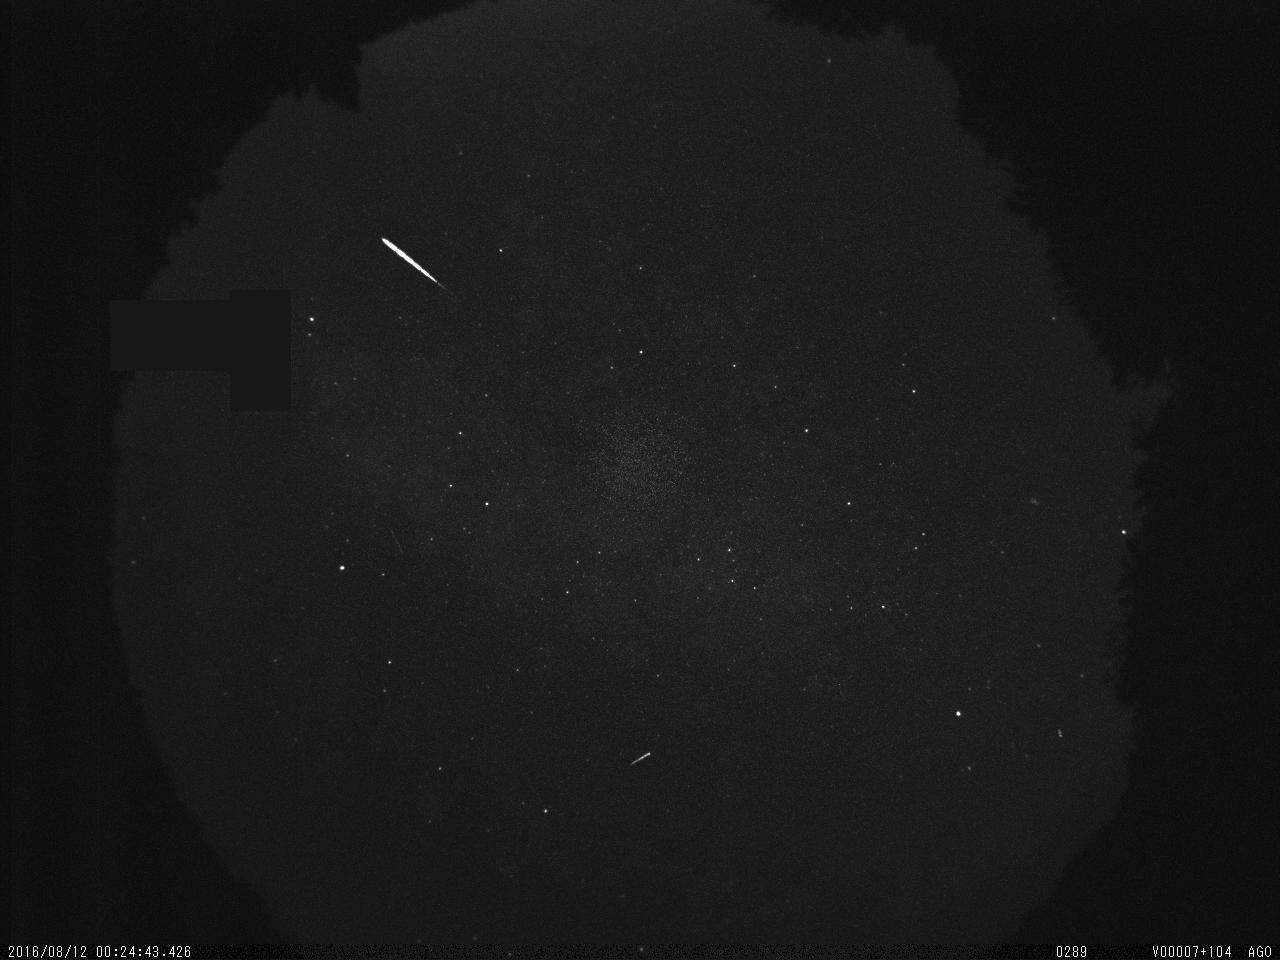meteor: (369, 230, 460, 297)
